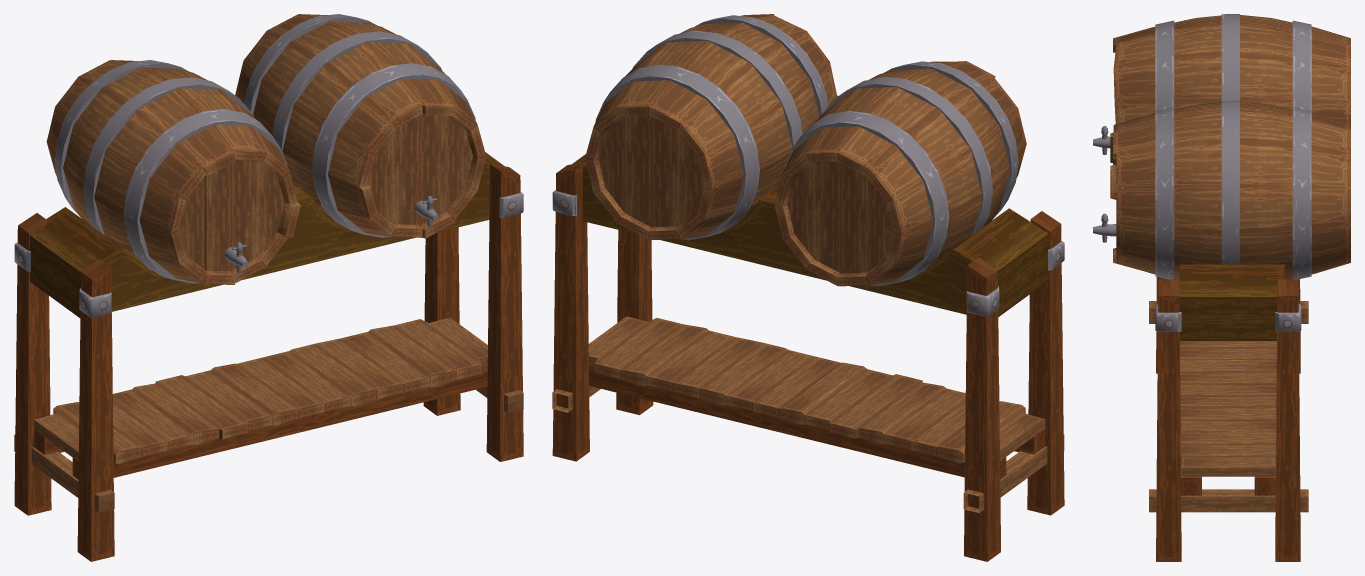
Rendered from Barrel_Holder.gltf.
The picture shows the model from 3 angles, left to right: view 1: azimuth 30°, elevation 25°; view 2: azimuth 150°, elevation 25°; view 3: azimuth 270°, elevation 25°; orthographic projection. The views are drawn at different scales.
Parts seen in each view (by area): view 1: Barrel_Holder; view 2: Barrel_Holder; view 3: Barrel_Holder.
Part boxes in pixels (x1,y1,x2,y2): Barrel_Holder: (14, 14, 523, 561); Barrel_Holder: (552, 14, 1064, 561); Barrel_Holder: (1093, 14, 1350, 561).
Bounding box in the file's own units: 1.36 × 1.26 × 0.741.
2 materials, 2 textured.
